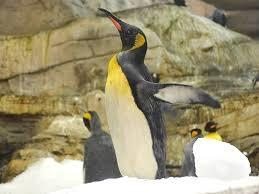king: (85, 2, 187, 188)
